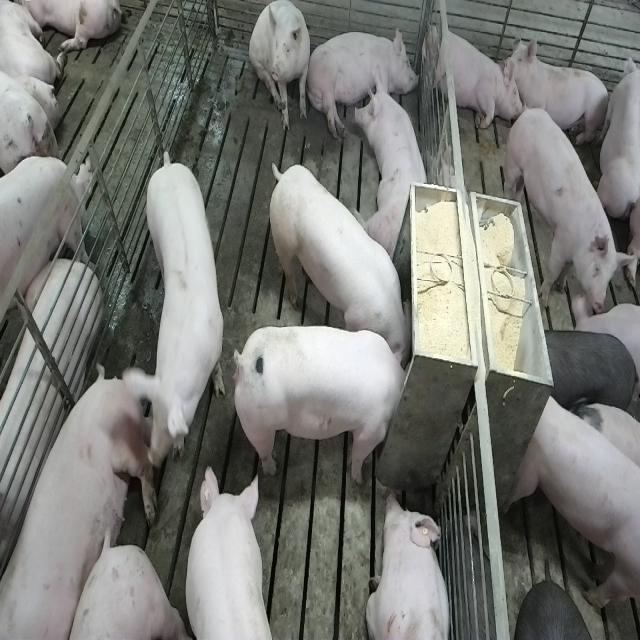Feeding: (264, 160, 412, 364), (229, 324, 409, 484)
Lateral_lying: (0, 260, 99, 610), (306, 24, 419, 141)
Sitting: (249, 2, 312, 134)
Standing: (504, 390, 638, 628), (130, 146, 224, 459), (506, 103, 625, 325), (0, 159, 93, 346), (188, 465, 287, 640), (535, 326, 636, 418)
Sternal_lying: (355, 73, 433, 259), (366, 490, 452, 640), (506, 37, 610, 150), (424, 19, 516, 132)
